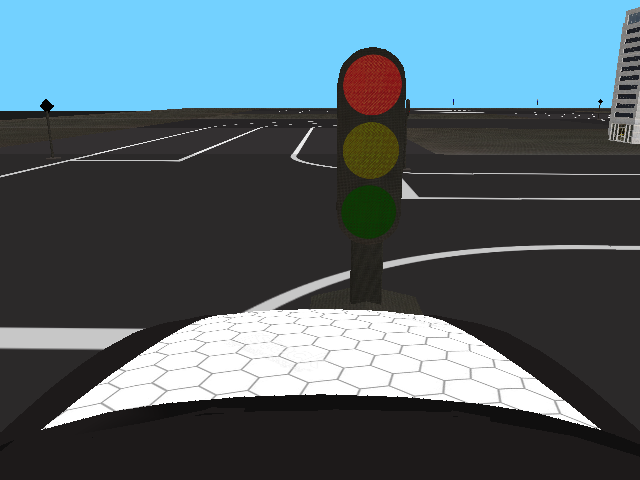red_light: (335, 45, 408, 244)
